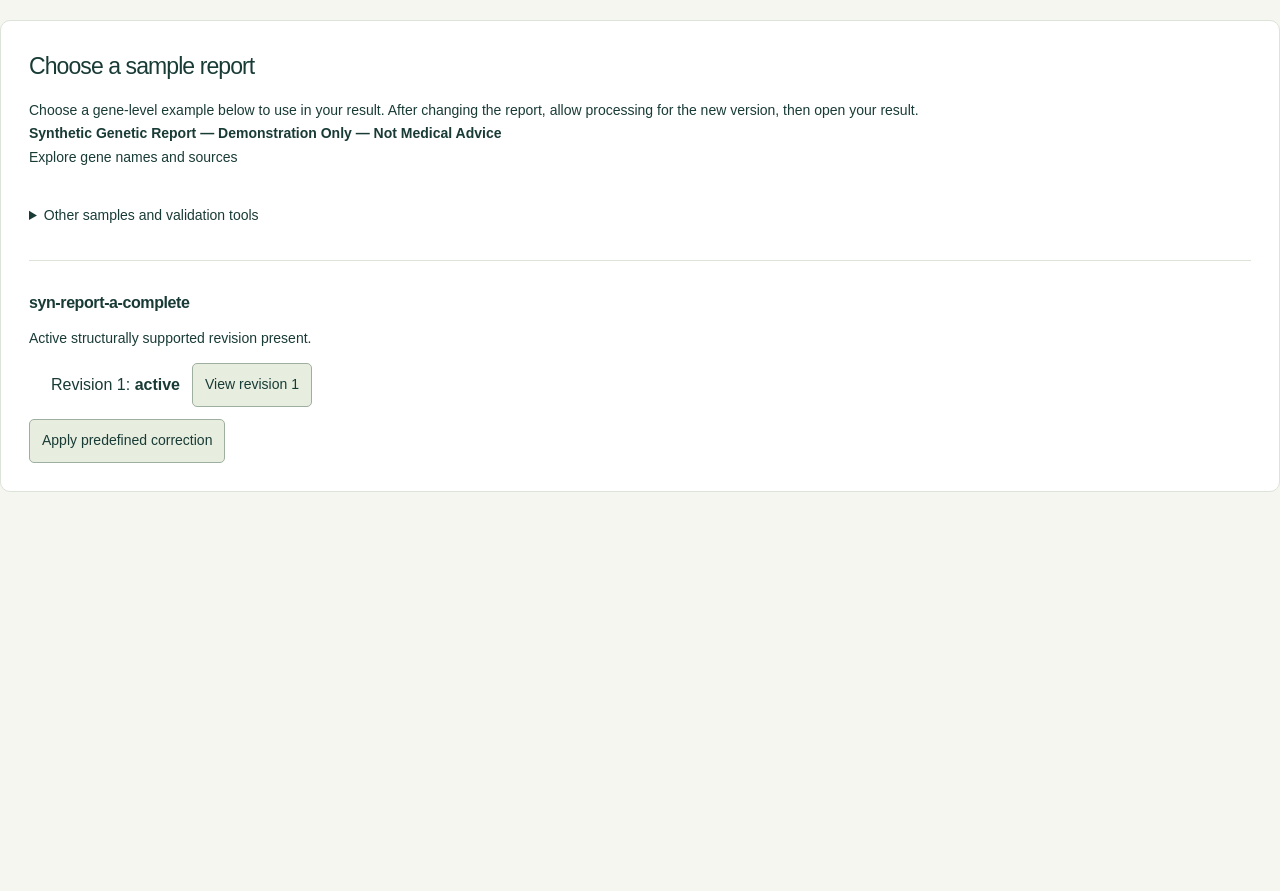
Test: fictional report management › shows explicit exclusions and clears old report data when processing is withdrawn
Click the button "View revision 1" at (252, 385), box [192,363,312,407]
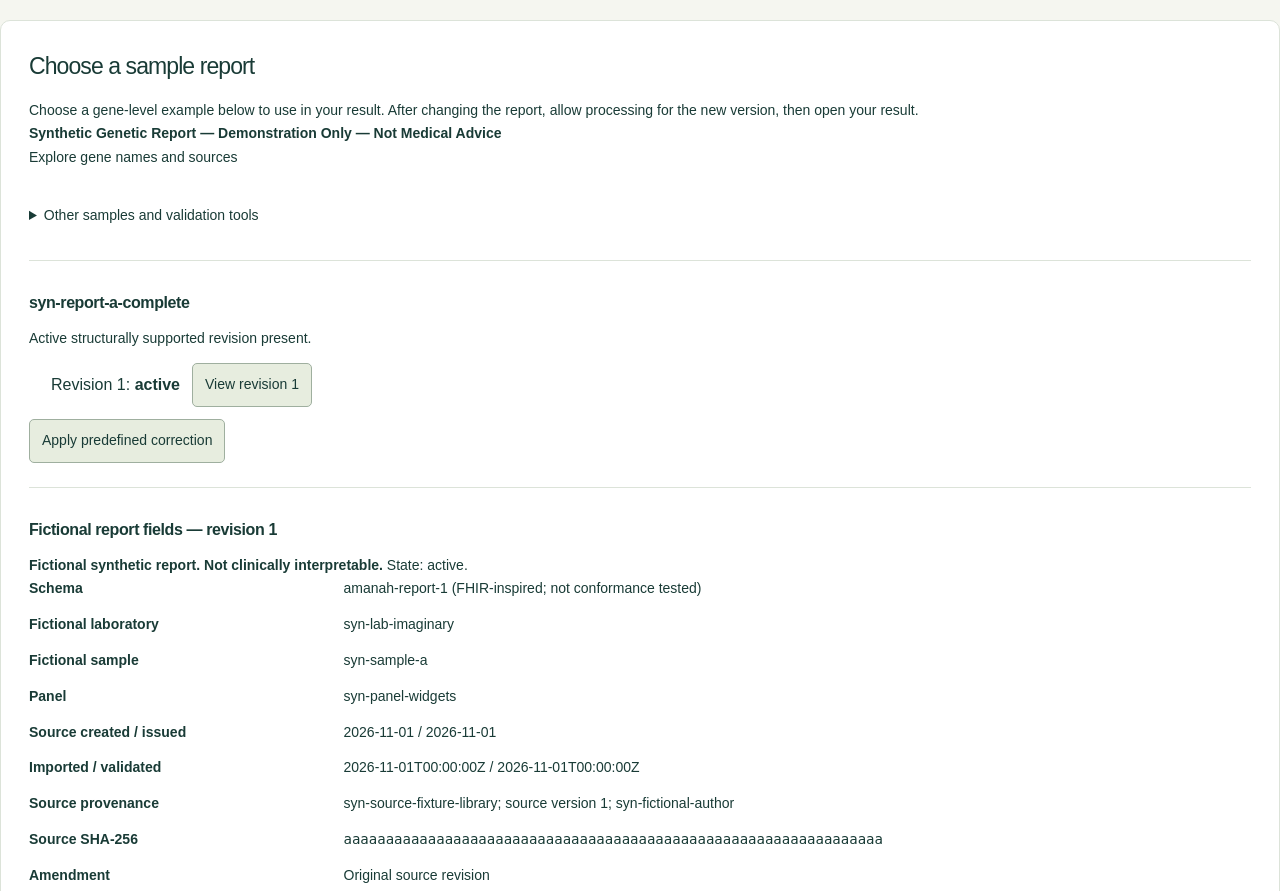
Expected: the text "amanah-report-1 (FHIR-inspired; not conformance tested)" is shown, [344,580,701,596]
